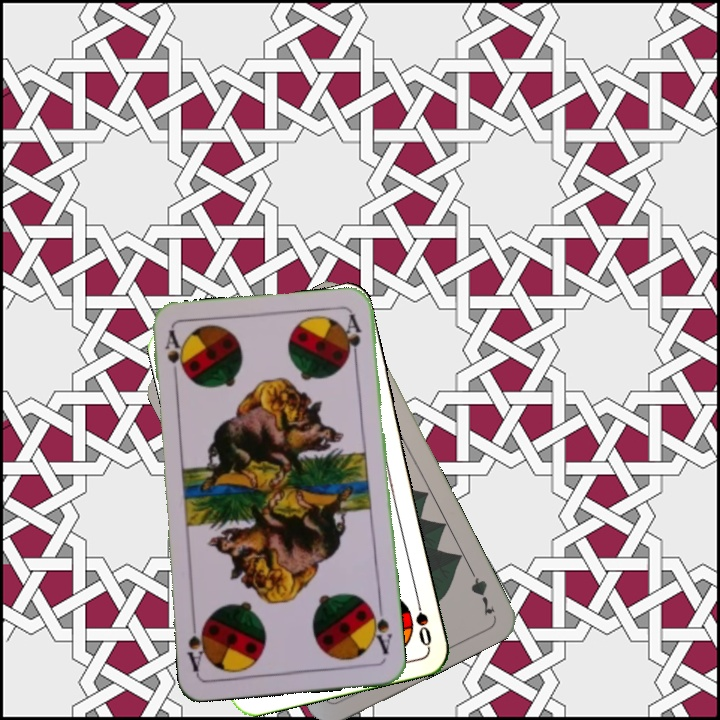G7: (463, 561, 498, 618)
SA: (365, 600, 395, 657), (161, 327, 187, 386)
SO: (411, 590, 434, 649)
